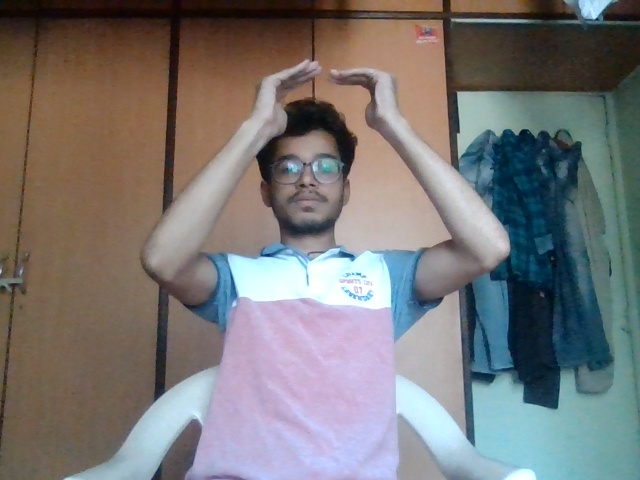afternoon: (236, 53, 446, 176)
